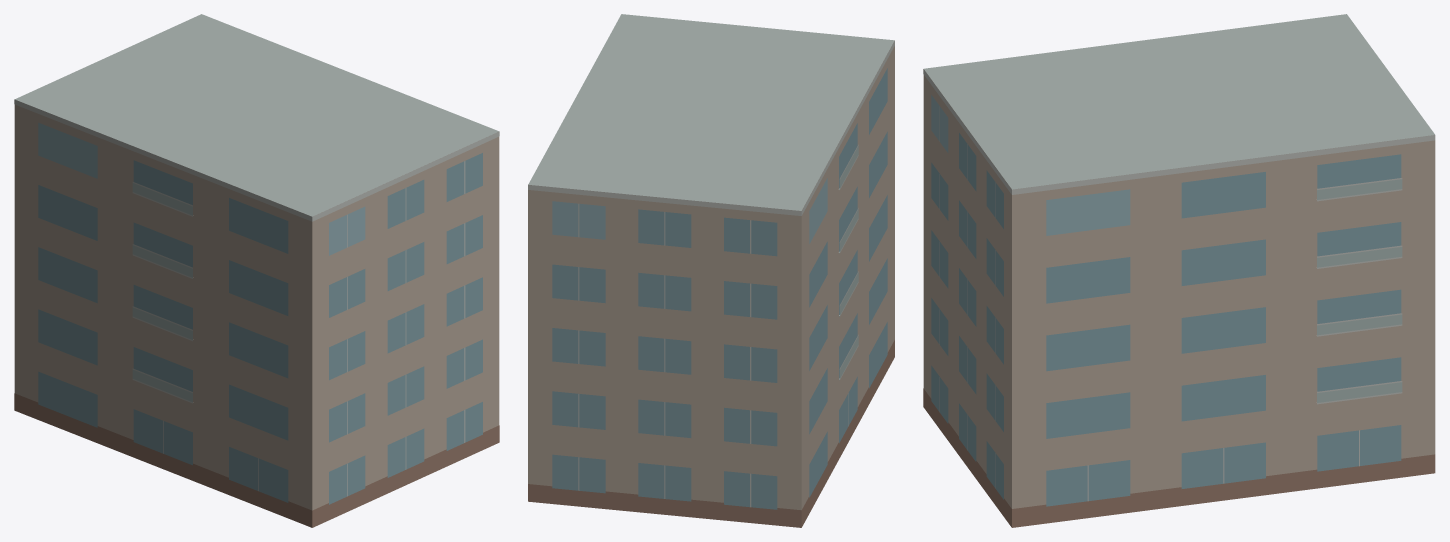
The model's file is survey-upis-32614157.glb.
The picture shows the model from 3 angles, left to right: view 1: azimuth 30°, elevation 25°; view 2: azimuth 150°, elevation 25°; view 3: azimuth 270°, elevation 25°; orthographic projection. The views are drawn at different scales.
Visible parts, largest first — view 1: survey-upis-32614157.tmp; view 2: survey-upis-32614157.tmp; view 3: survey-upis-32614157.tmp.
Boxes of the visible parts, x1,y1,x2,y2 form: survey-upis-32614157.tmp: [14, 14, 499, 527]; survey-upis-32614157.tmp: [528, 14, 894, 527]; survey-upis-32614157.tmp: [923, 14, 1435, 527].
Size of the model in its own units: 16.81 by 15.1 by 20.72.
